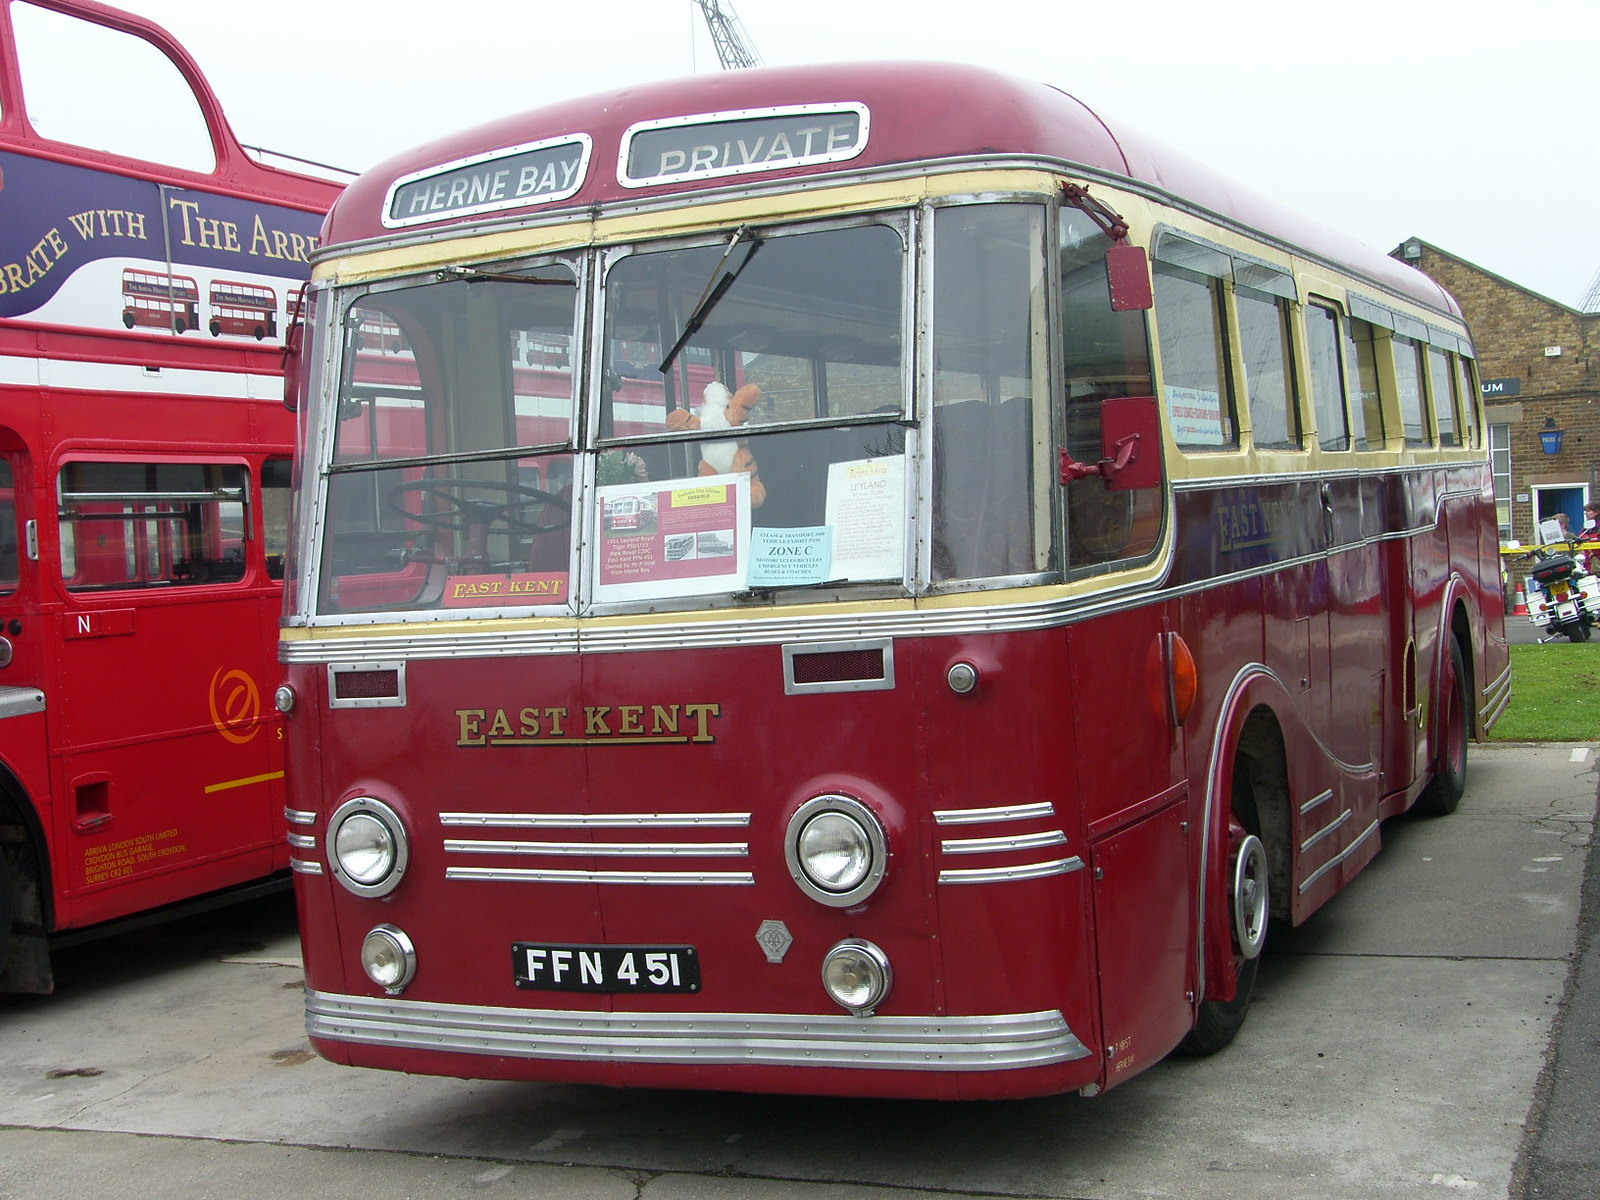bus: (268, 66, 1537, 1105)
